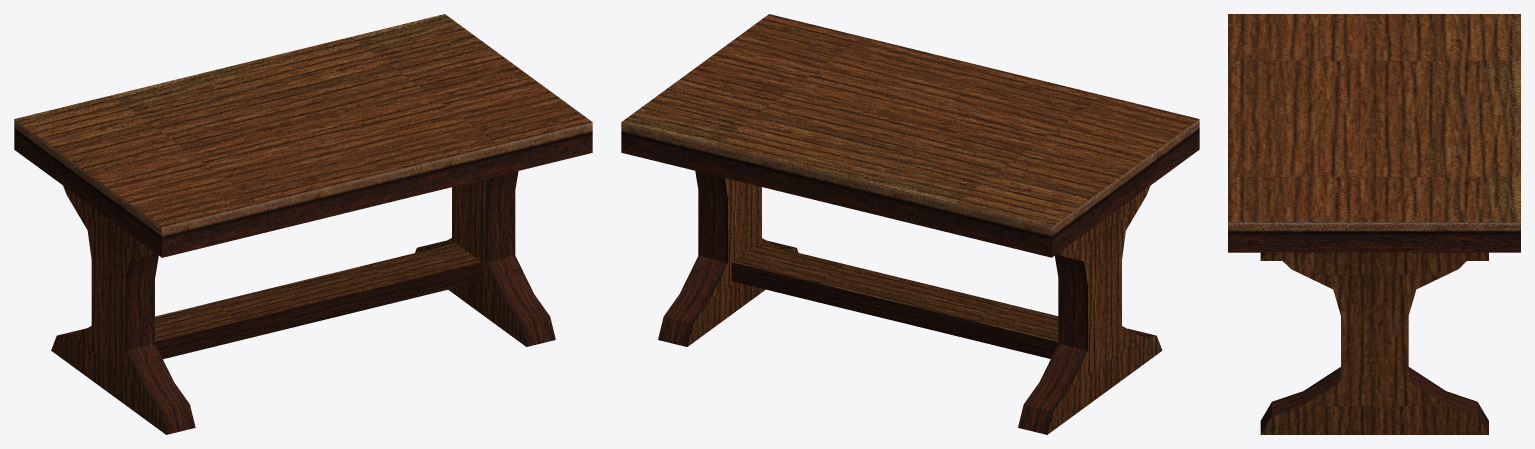
The model's file is mm9_deco_tabletrestle2.glb.
3 renders of one model, left to right at view 1: azimuth 30°, elevation 25°; view 2: azimuth 150°, elevation 25°; view 3: azimuth 270°, elevation 25°, orthographic.
Visible parts, largest first — view 1: Tabletrestle2; view 2: Tabletrestle2; view 3: Tabletrestle2.
Boxes of the visible parts, <box> form: Tabletrestle2: <box>14,14,592,434</box>; Tabletrestle2: <box>621,14,1199,434</box>; Tabletrestle2: <box>1228,14,1520,434</box>.
Size of the model in its own units: 2.27 by 1.13 by 1.35.
Materials: 2 (2 with a texture image).
